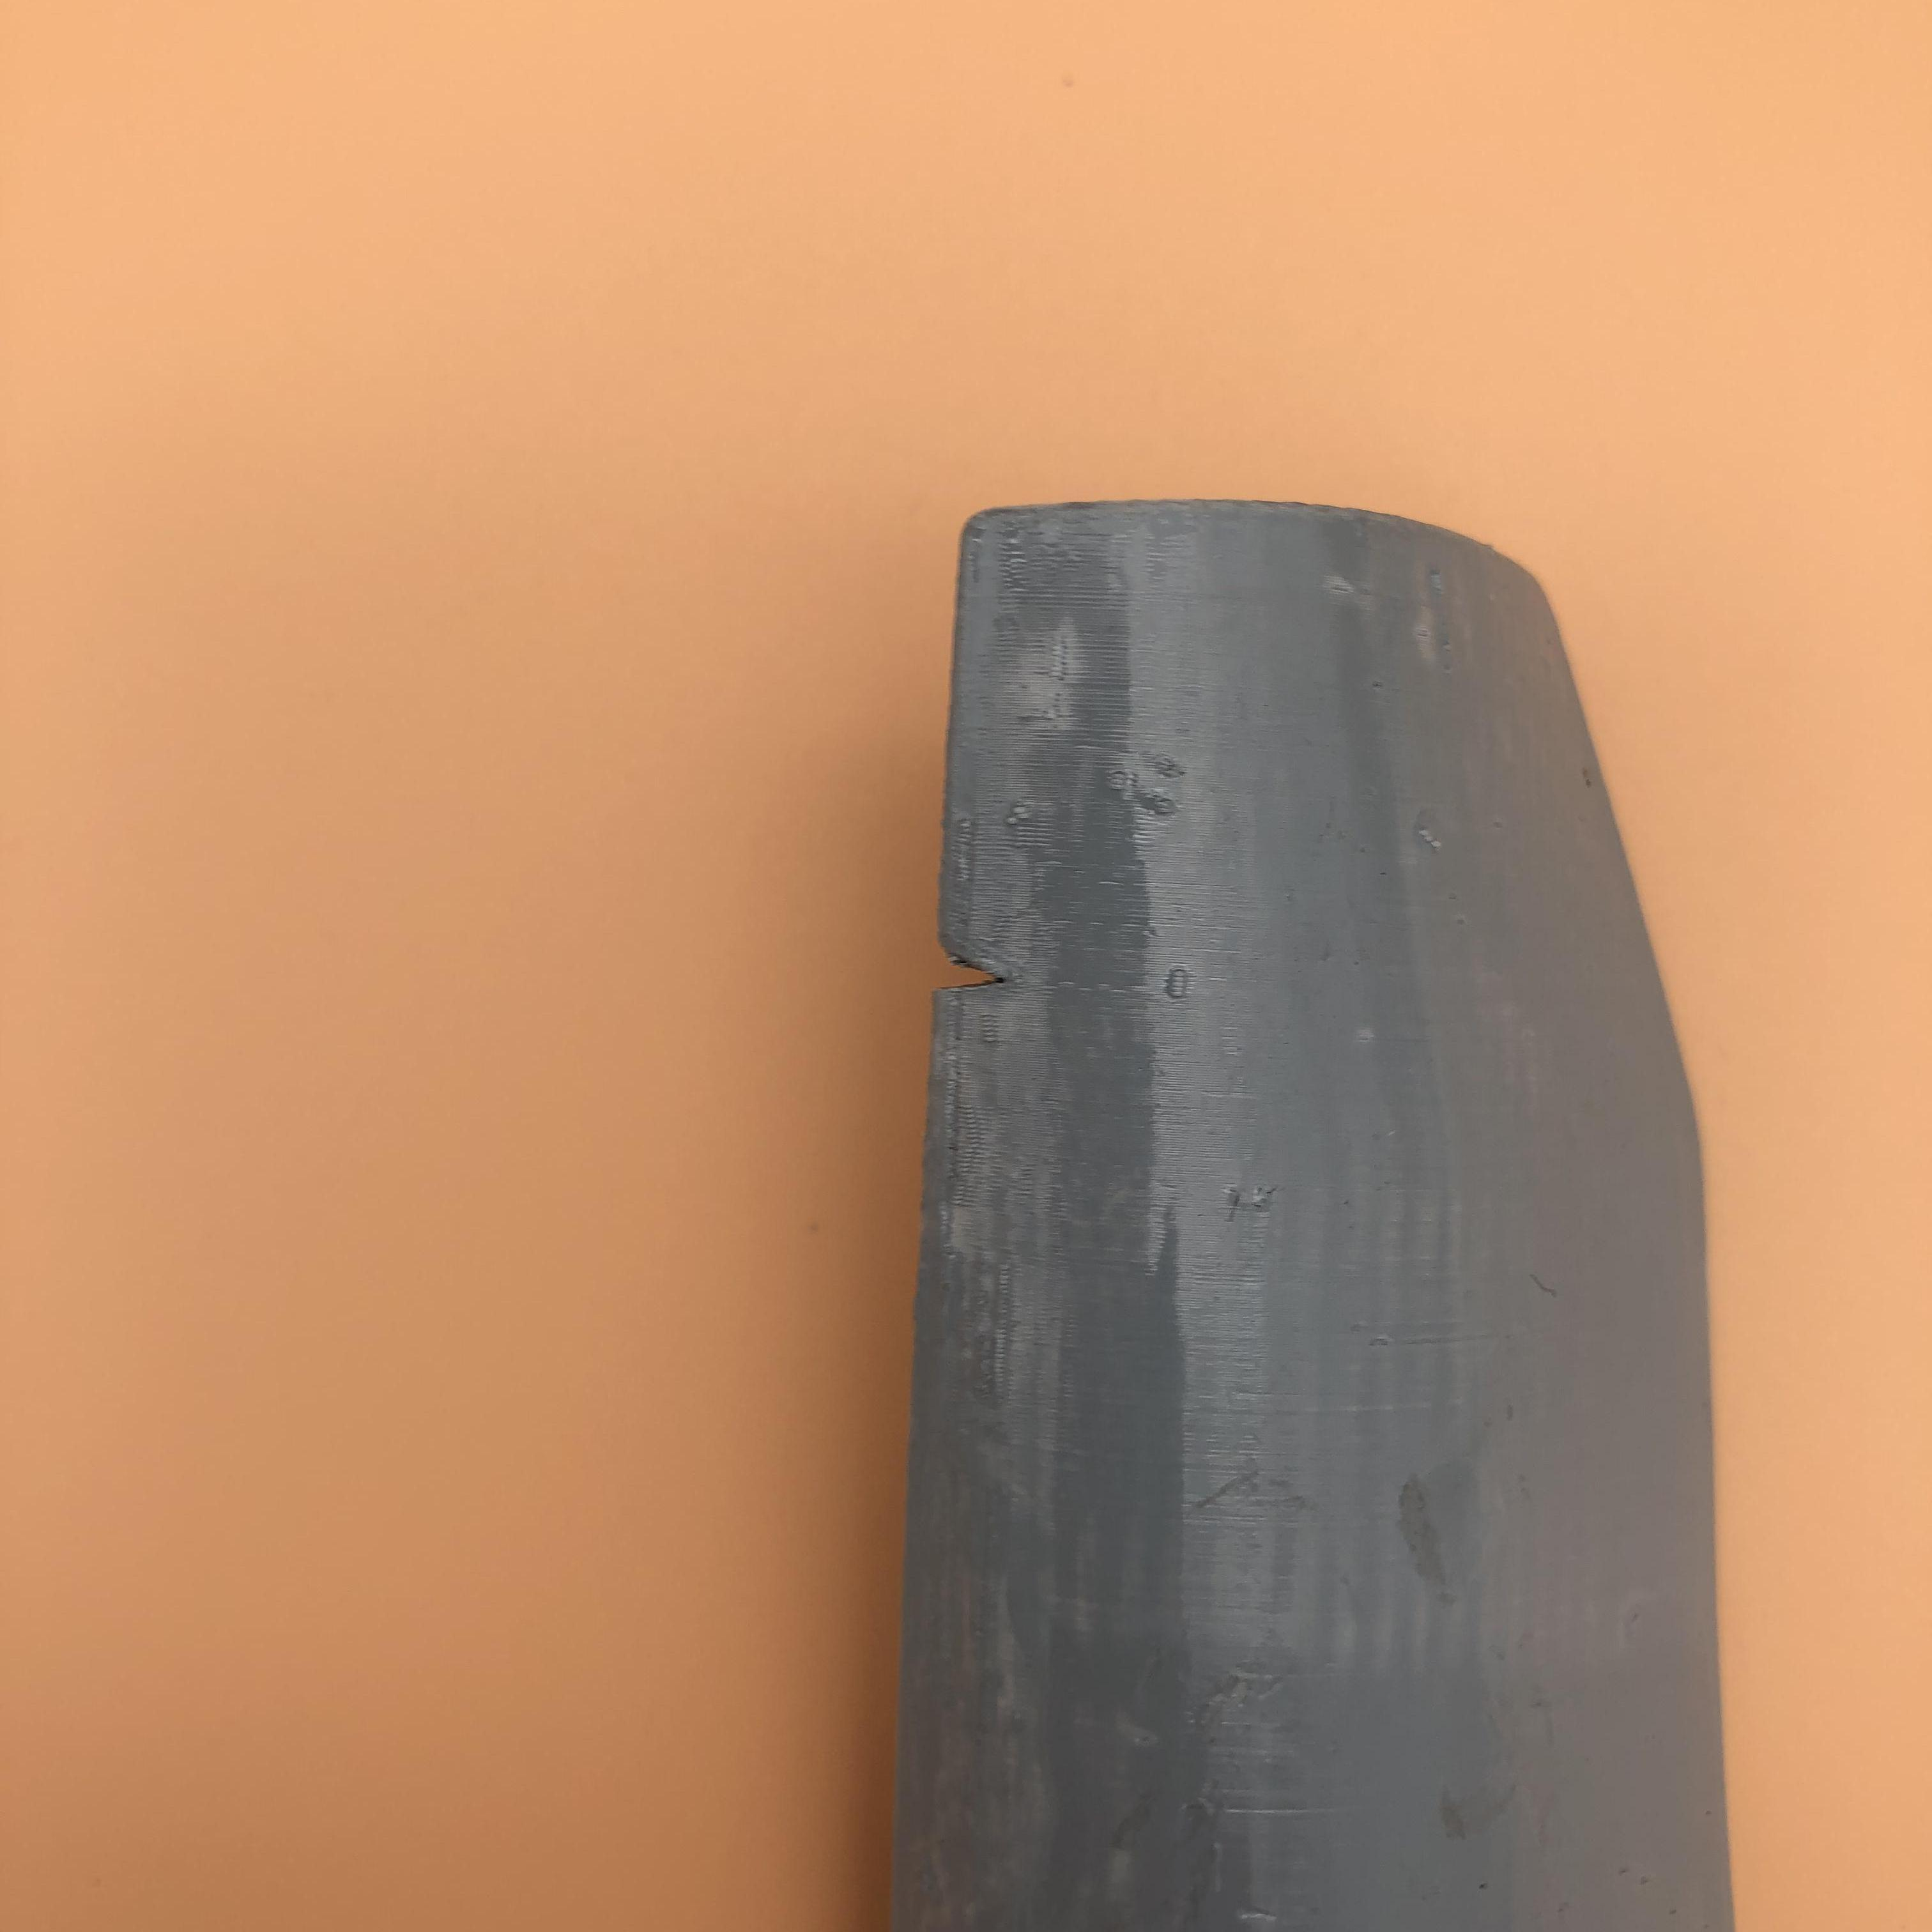groove: (941, 938, 1024, 1005)
